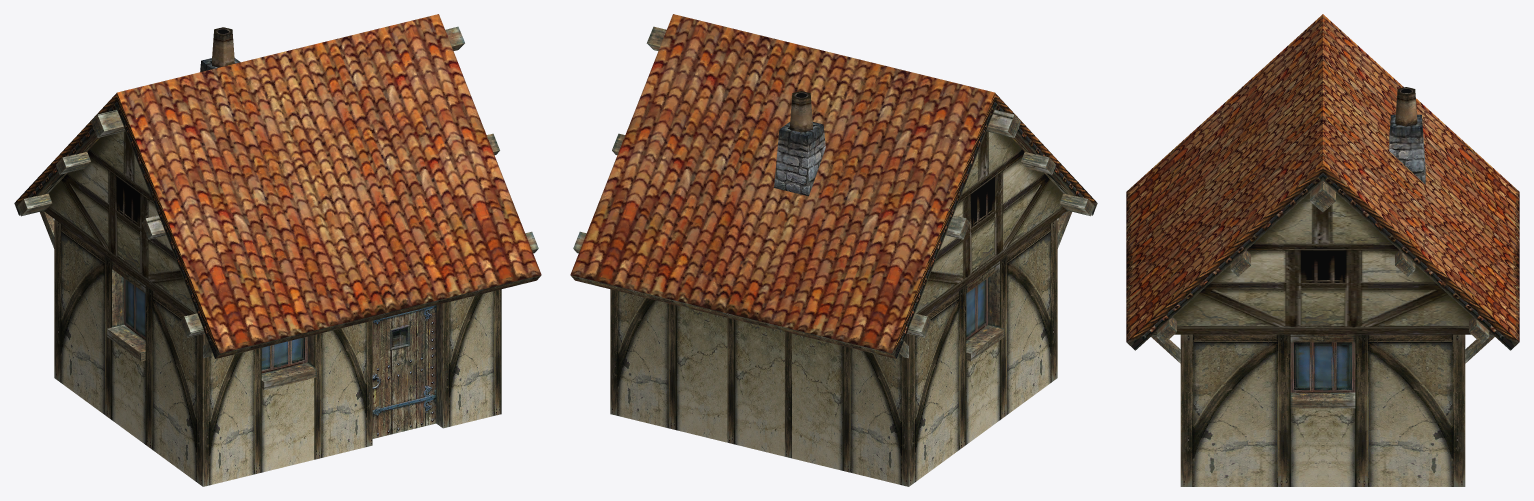
Rendered from S_home40.glb.
The picture shows the model from 3 angles, left to right: view 1: azimuth 30°, elevation 25°; view 2: azimuth 150°, elevation 25°; view 3: azimuth 270°, elevation 25°; orthographic projection. The views are drawn at different scales.
Parts seen in each view (by area): view 1: S_home40-col; view 2: S_home40-col; view 3: S_home40-col.
Boxes of the visible parts, left/top/right/bottom form: S_home40-col: left=14, top=14, right=541, bottom=486; S_home40-col: left=570, top=14, right=1097, bottom=486; S_home40-col: left=1126, top=14, right=1519, bottom=486.
Bounding box in the file's own units: 6.17 × 5.6 × 6.09.
9 materials, 9 textured.
